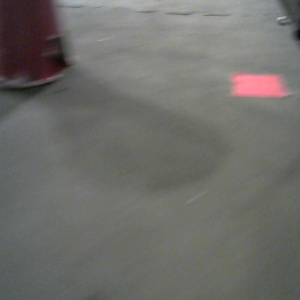Middle: (1, 1, 70, 88)
